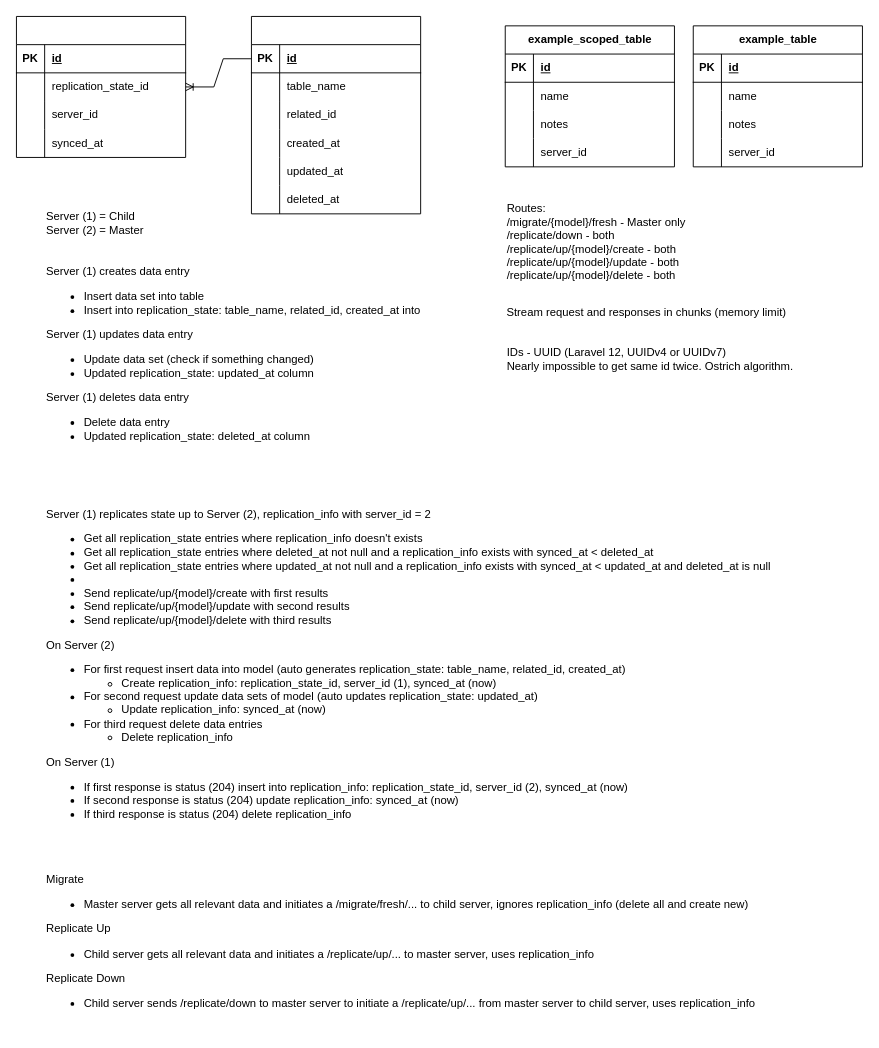
Image size: 879x1048. Some labels were removed from this diagram. Each missing label, with the box of its shape:
replication_info: (16, 16, 186, 157)
replication_state: (251, 16, 421, 214)
